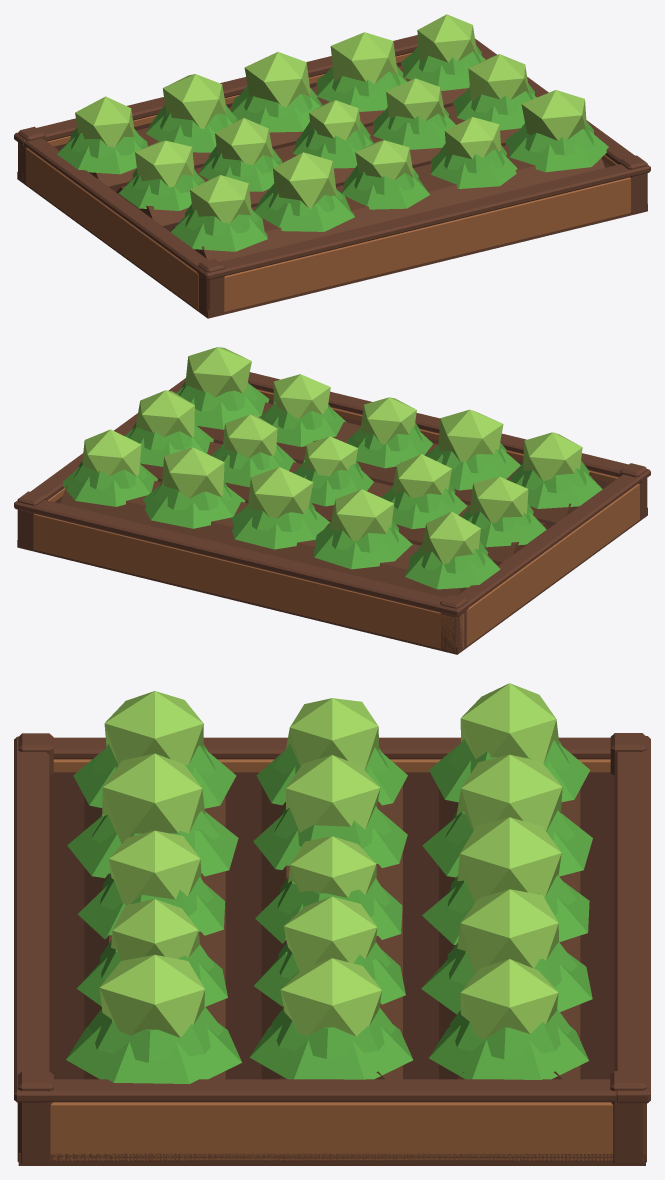
Rendered from CropBed_Cabbage.fbx.
3 views of the same model, one above another, from view 1: azimuth 30°, elevation 25°; view 2: azimuth 150°, elevation 25°; view 3: azimuth 270°, elevation 25° (orthographic). The views are drawn at different scales.
Parts seen in each view (by area): view 1: CropBed_Cabbage; view 2: CropBed_Cabbage; view 3: CropBed_Cabbage.
Part boxes in pixels (x1,y1,x2,y2): CropBed_Cabbage: (14,14,650,318); CropBed_Cabbage: (14,347,650,654); CropBed_Cabbage: (14,683,650,1165).
Size of the model in its own units: 4.05 by 0.9117 by 3.05.
